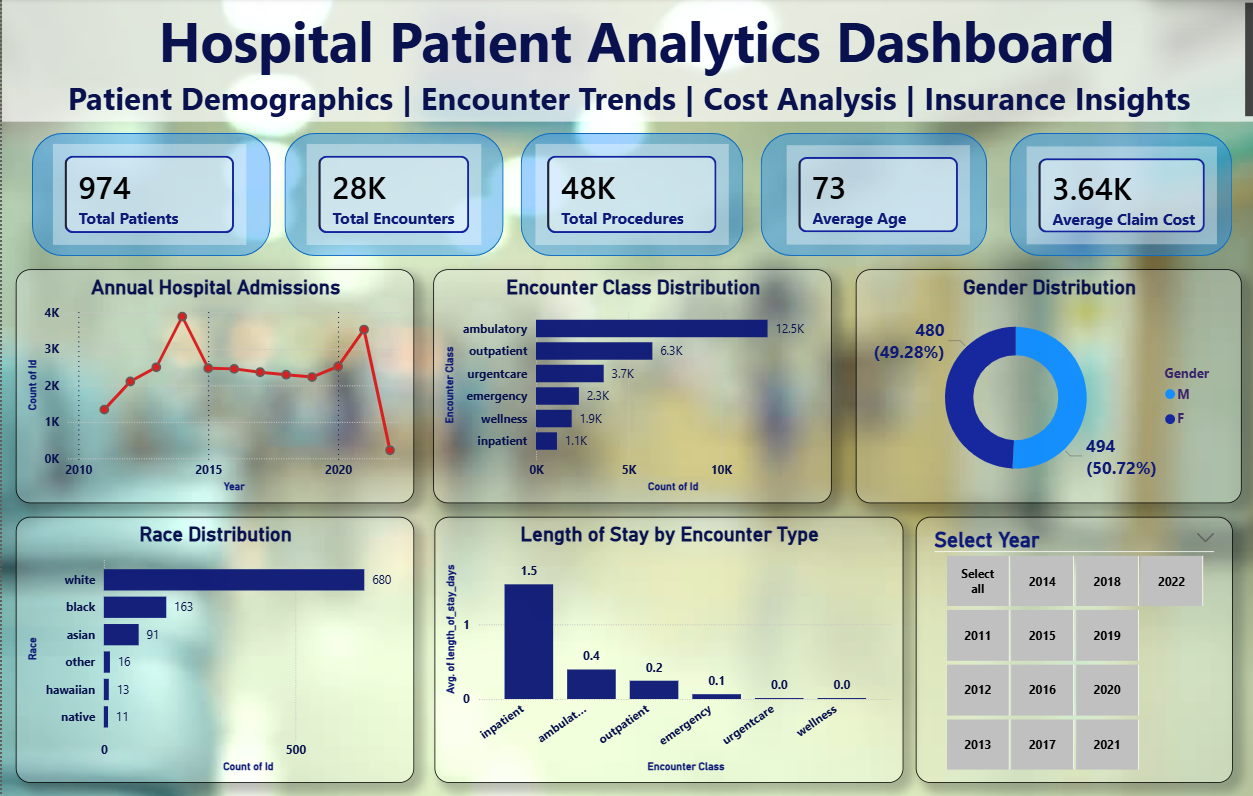

This screenshot's page, from the dashboard's own definition file:
{"tool":"powerbi","page":{"name":"Hospital","canvas":[1282,816],"ordinal":0},"visuals":[{"type":"textbox","box":[0,0,1283.3,126.5],"z":0},{"type":"shape","box":[30.2,138.3,243.9,125.7],"z":1000},{"type":"cardVisual","fields":{"Data":["patients_clean.Total Patients"]},"box":[47.8,144.6,207.4,113.1],"z":2000},{"type":"shape","box":[289.1,138.3,223.8,125.7],"z":3000},{"type":"shape","box":[1029.5,138.3,227.5,125.7],"z":4000},{"type":"shape","box":[530.5,138.3,227.5,125.7],"z":5000},{"type":"shape","box":[775.6,138.3,231.3,125.7],"z":6000},{"type":"cardVisual","fields":{"Data":["procedures_clean.Total Procedures"]},"box":[540.5,144.6,207.4,113.1],"z":7000},{"type":"cardVisual","fields":{"Data":["encounters_clean.Total Encounters"]},"box":[306.7,144.6,188.6,113.1],"z":8000},{"type":"cardVisual","fields":{"Data":["encounters_clean.Average Claim Cost"]},"box":[1042.1,147.1,204.9,110.6],"z":9000},{"type":"cardVisual","fields":{"Data":["patients_clean.Average Age"]},"box":[797,145.8,197.4,111.9],"z":10000},{"type":"lineChart","title":"Annual Hospital Admissions","fields":{"Category":["encounters_clean.year"],"Y":["CountNonNull(encounters_clean.id)"]},"box":[13.8,277.8,407.3,238.8],"z":11000},{"type":"clusteredBarChart","title":"Encounter Class Distribution","fields":{"Category":["encounters_clean.encounterclass"],"Y":["CountNonNull(encounters_clean.id)"]},"box":[441.2,277.8,407.3,238.8],"z":12000},{"type":"donutChart","title":"Gender Distribution","fields":{"Category":["patients_clean.gender"],"Y":["CountNonNull(patients_clean.id)"]},"box":[872.4,277.8,394.7,238.8],"z":13000},{"type":"clusteredBarChart","title":"Race Distribution","fields":{"Category":["patients_clean.race"],"Y":["CountNonNull(patients_clean.id)"]},"box":[14.4,530.7,407.1,271.8],"z":14000},{"type":"clusteredColumnChart","title":"Length of Stay by Encounter Type","fields":{"Category":["encounters_clean.encounterclass"],"Y":["Avg(encounters_clean.length_of_stay_days)"]},"box":[441.6,530.7,479,271.8],"z":15000},{"type":"slicer","fields":{"Values":["encounters_clean.year"]},"box":[933.5,530.7,323.6,271.8],"z":16000}]}

Visuals, with their boxes in screenshot pixels (x1, y1, x2, y2), scaled from the page's 1282x816 canvas onto the 1253x796 screenshot:
textbox: [left=0, top=0, right=1252, bottom=123]
shape: [left=30, top=135, right=268, bottom=258]
cardVisual - patients_clean.Total Patients: [left=47, top=141, right=249, bottom=251]
shape: [left=283, top=135, right=501, bottom=258]
shape: [left=1006, top=135, right=1229, bottom=258]
shape: [left=518, top=135, right=741, bottom=258]
shape: [left=758, top=135, right=984, bottom=258]
cardVisual - procedures_clean.Total Procedures: [left=528, top=141, right=731, bottom=251]
cardVisual - encounters_clean.Total Encounters: [left=300, top=141, right=484, bottom=251]
cardVisual - encounters_clean.Average Claim Cost: [left=1019, top=143, right=1219, bottom=251]
cardVisual - patients_clean.Average Age: [left=779, top=142, right=972, bottom=251]
"Annual Hospital Admissions" lineChart: [left=13, top=271, right=412, bottom=504]
"Encounter Class Distribution" clusteredBarChart: [left=431, top=271, right=829, bottom=504]
"Gender Distribution" donutChart: [left=853, top=271, right=1238, bottom=504]
"Race Distribution" clusteredBarChart: [left=14, top=518, right=412, bottom=783]
"Length of Stay by Encounter Type" clusteredColumnChart: [left=432, top=518, right=900, bottom=783]
slicer - encounters_clean.year: [left=912, top=518, right=1229, bottom=783]
